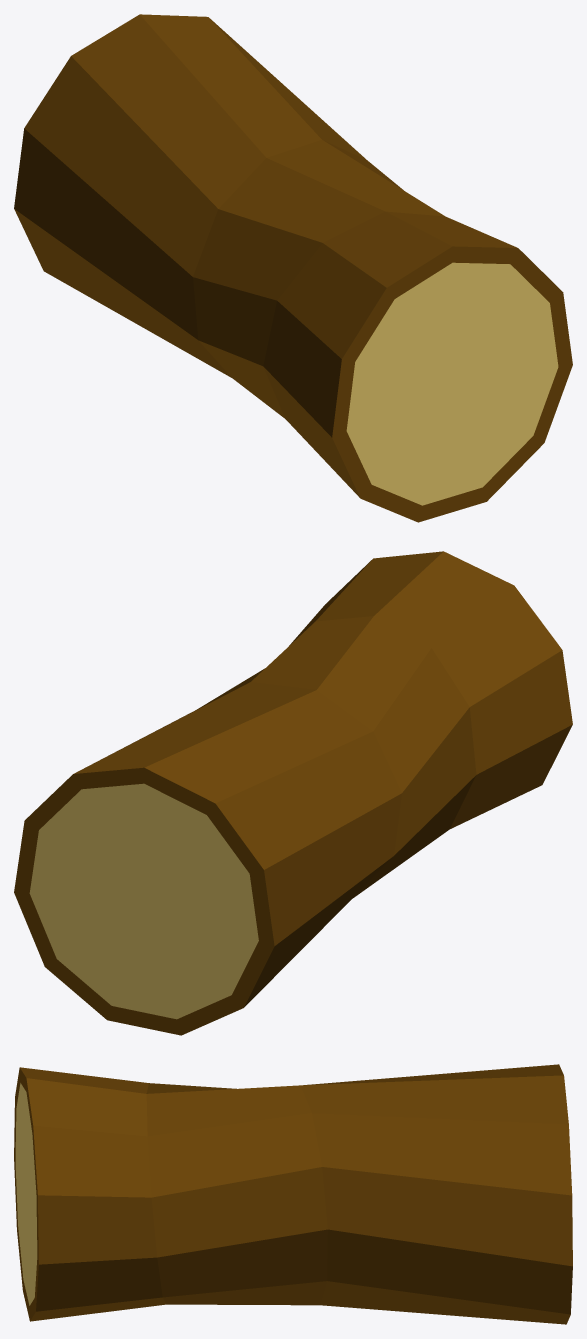
Rendered from wood04.fbx.
3 views of the same model, one above another, from view 1: azimuth 30°, elevation 25°; view 2: azimuth 150°, elevation 25°; view 3: azimuth 270°, elevation 25° (orthographic). The views are drawn at different scales.
Parts seen in each view (by area): view 1: Cylinder.009; view 2: Cylinder.009; view 3: Cylinder.009.
Boxes of the visible parts, left/top/right/bottom form: Cylinder.009: left=14, top=14, right=572, bottom=522; Cylinder.009: left=14, top=551, right=572, bottom=1035; Cylinder.009: left=14, top=1064, right=572, bottom=1324.
Size of the model in its own units: 0.3985 by 0.3954 by 0.8577.
